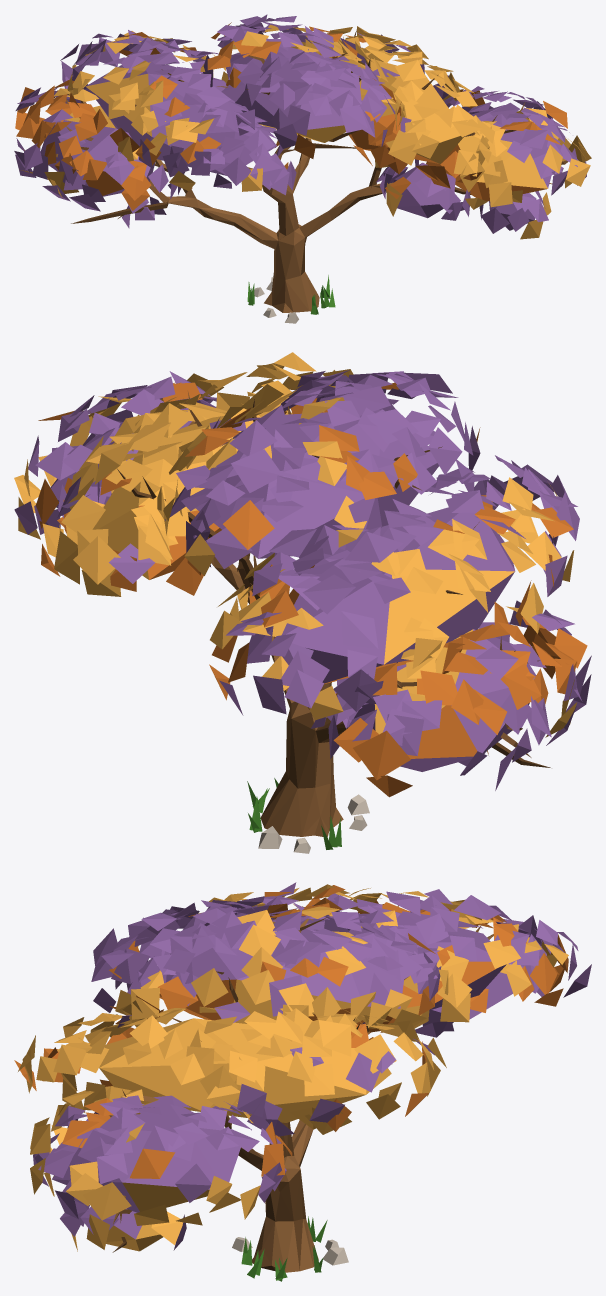
File: jacaranda_2_autumn.glb
The picture shows the model from 3 angles, top to bottom: view 1: azimuth 30°, elevation 25°; view 2: azimuth 150°, elevation 25°; view 3: azimuth 270°, elevation 25°; orthographic projection. The views are drawn at different scales.
Parts seen in each view (by area): view 1: jacaranda_2_autumn; view 2: jacaranda_2_autumn; view 3: jacaranda_2_autumn.
Boxes of the visible parts, <box> form: jacaranda_2_autumn: <box>14,14,591,323</box>; jacaranda_2_autumn: <box>14,352,591,853</box>; jacaranda_2_autumn: <box>14,882,591,1281</box>.
Size of the model in its own units: 10.67 by 6.28 by 9.48.
